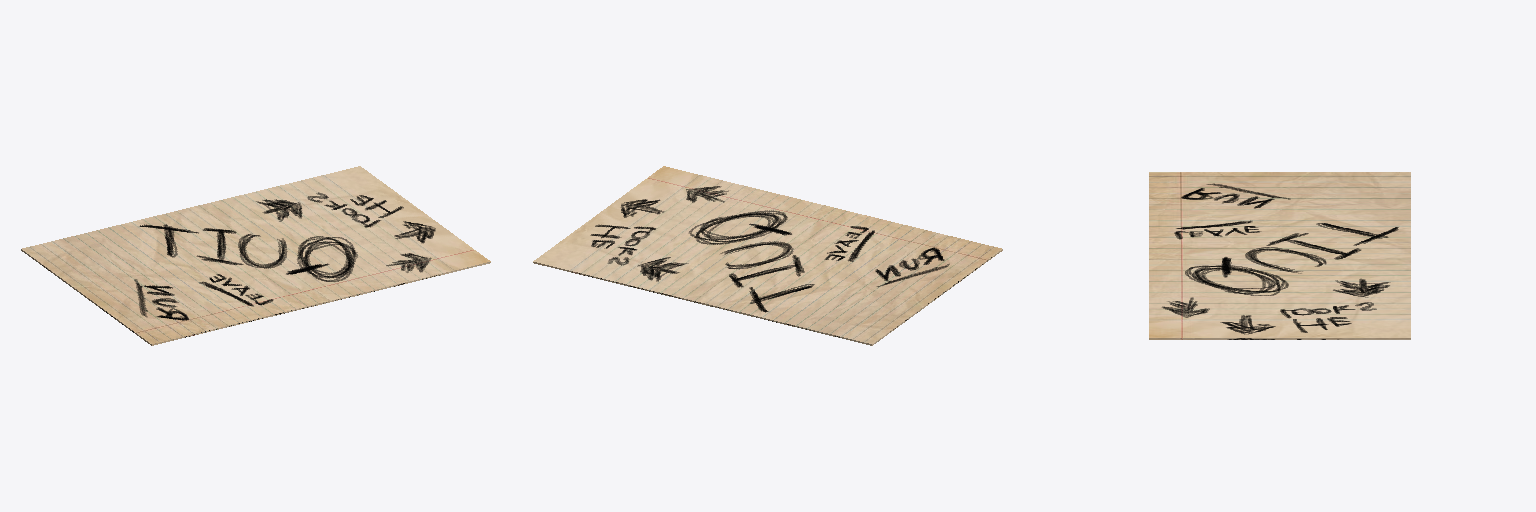
3 renders of one model, left to right at view 1: azimuth 30°, elevation 25°; view 2: azimuth 150°, elevation 25°; view 3: azimuth 270°, elevation 25°, orthographic.
Visible parts, largest first — view 1: Page_1; view 2: Page_1; view 3: Page_1.
Part boxes in pixels (x1,y1,x2,y2): Page_1: (21,166,490,345); Page_1: (533,166,1002,345); Page_1: (1149,172,1410,339).
Size of the model in its own units: 0.45 by 0.002 by 0.3.
1 materials, 1 textured.